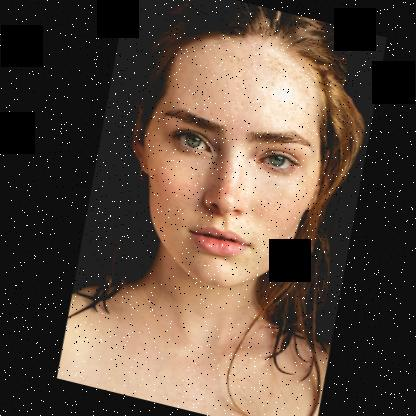Female: (93, 10, 356, 306)
